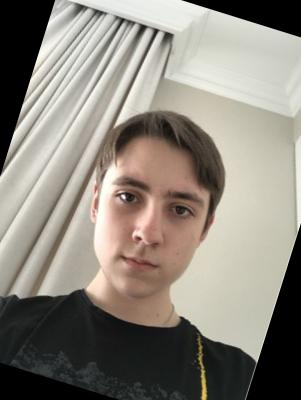without_mask: (74, 160, 214, 312)
